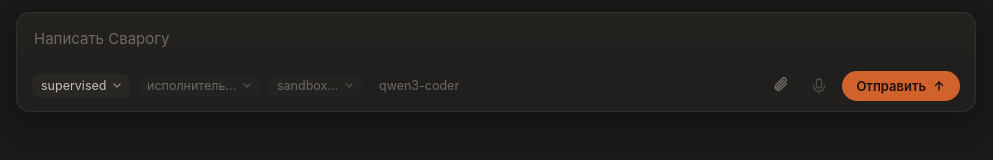
Test case: поле ввода › подсказывает файлы после @ и вставляет выбранный
Type "глянь @sr" into the dropdown labelled "Написать Сварогу".
click(496, 39); type("глянь @sr")  # box [32,26,960,52]
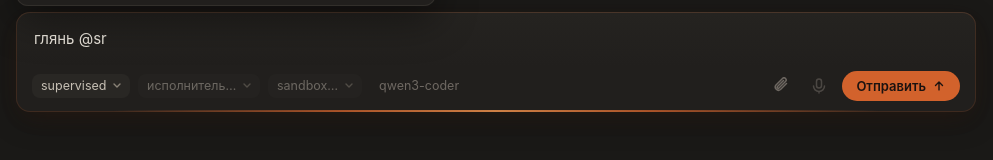
Press Enter
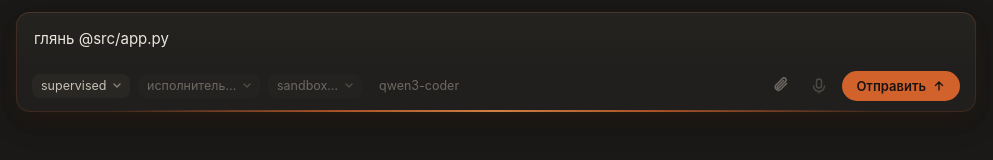
expect the dropdown named "Написать Сварогу" holds "глянь @src/app.py ": met, box [32,26,960,52]
